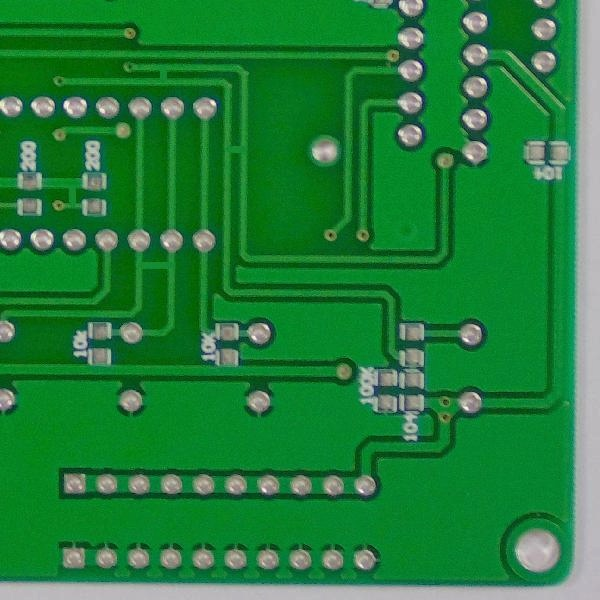short: (130, 254, 184, 281), (59, 173, 88, 212), (221, 138, 253, 164), (147, 62, 174, 89)
